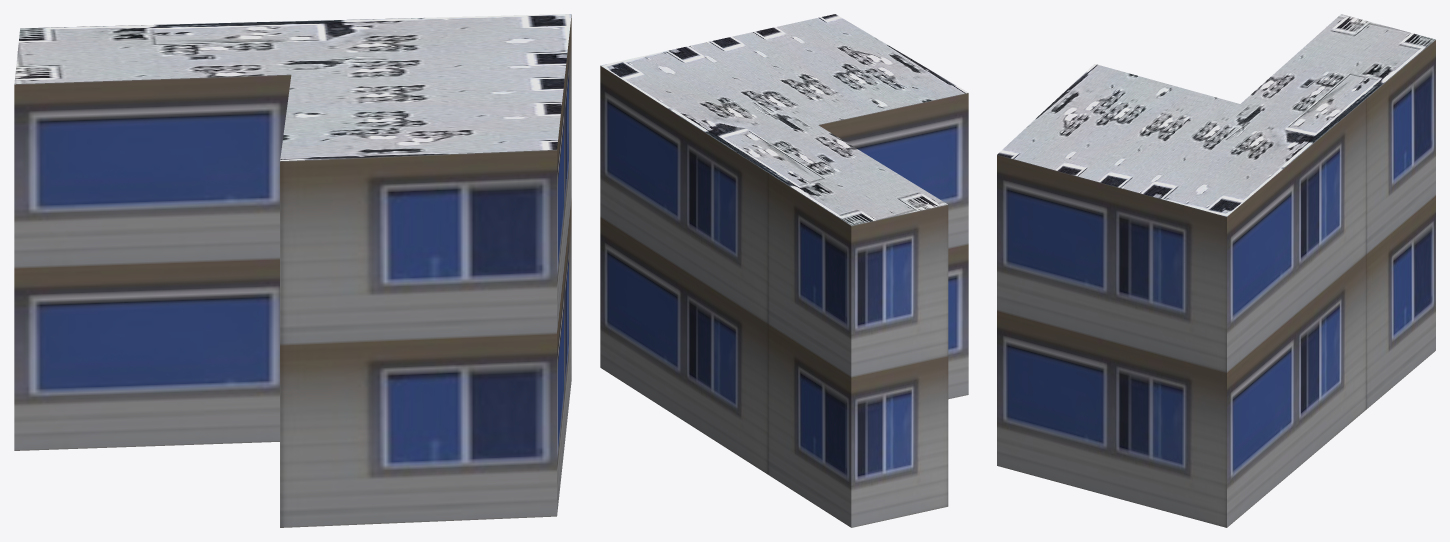
File: ResTex__5153.fbx
3 renders of one model, left to right at view 1: azimuth 30°, elevation 25°; view 2: azimuth 150°, elevation 25°; view 3: azimuth 270°, elevation 25°, orthographic. The views are drawn at different scales.
Parts seen in each view (by area): view 1: CityEngineMaterial_23_m, CityEngineMaterial_m; view 2: CityEngineMaterial_23_m, CityEngineMaterial_m; view 3: CityEngineMaterial_23_m, CityEngineMaterial_m.
Boxes of the visible parts, x1,y1,x2,y2 form: CityEngineMaterial_23_m: [14, 15, 571, 527]; CityEngineMaterial_m: [14, 14, 571, 161]; CityEngineMaterial_23_m: [600, 66, 968, 527]; CityEngineMaterial_m: [600, 14, 968, 225]; CityEngineMaterial_23_m: [997, 40, 1435, 527]; CityEngineMaterial_m: [997, 14, 1435, 216].
Bounding box in the file's own units: 8.39 × 6 × 7.67.
Materials: 2 (2 with a texture image).
